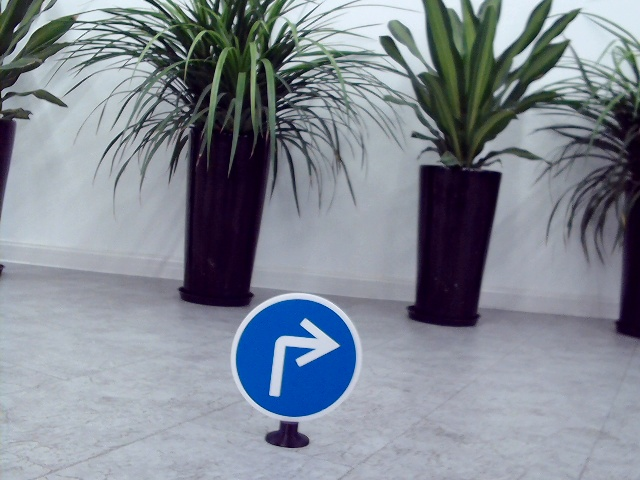turn_right: (270, 316, 337, 401)
